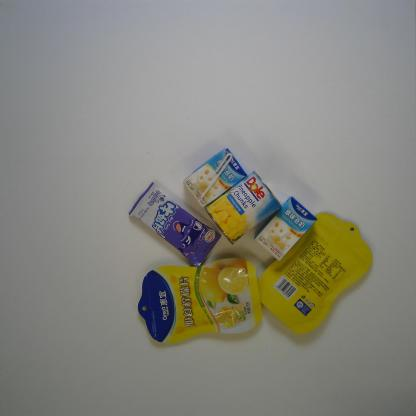Candy: (128, 182, 222, 267)
Canned Food: (205, 170, 282, 246)
Dried Fruit: (256, 212, 374, 335), (137, 257, 263, 345)
Milk: (254, 196, 317, 262), (183, 148, 248, 209)
